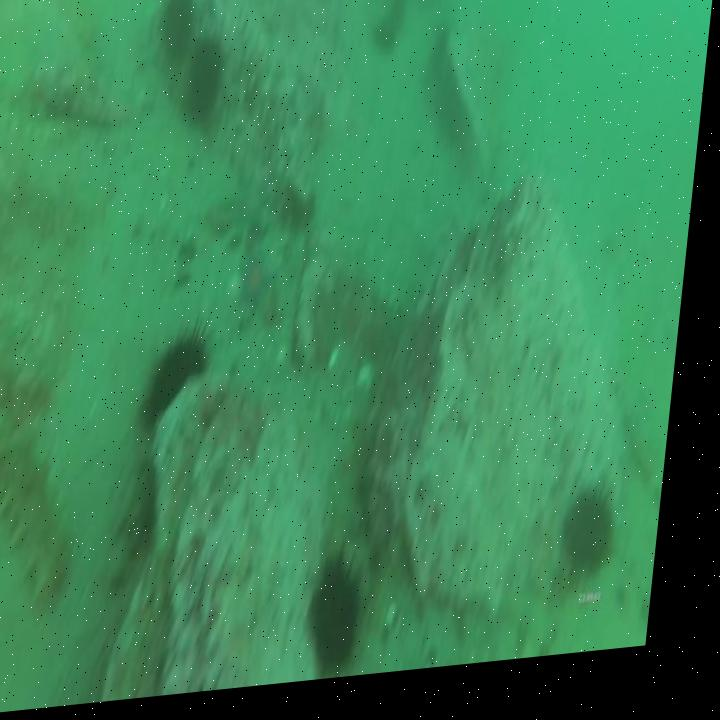echinus: (312, 550, 389, 690), (146, 321, 220, 449), (570, 494, 635, 604), (180, 34, 233, 134), (154, 0, 202, 76)
holothurian: (0, 435, 97, 611), (0, 84, 92, 160)
starfish: (237, 251, 286, 322)
